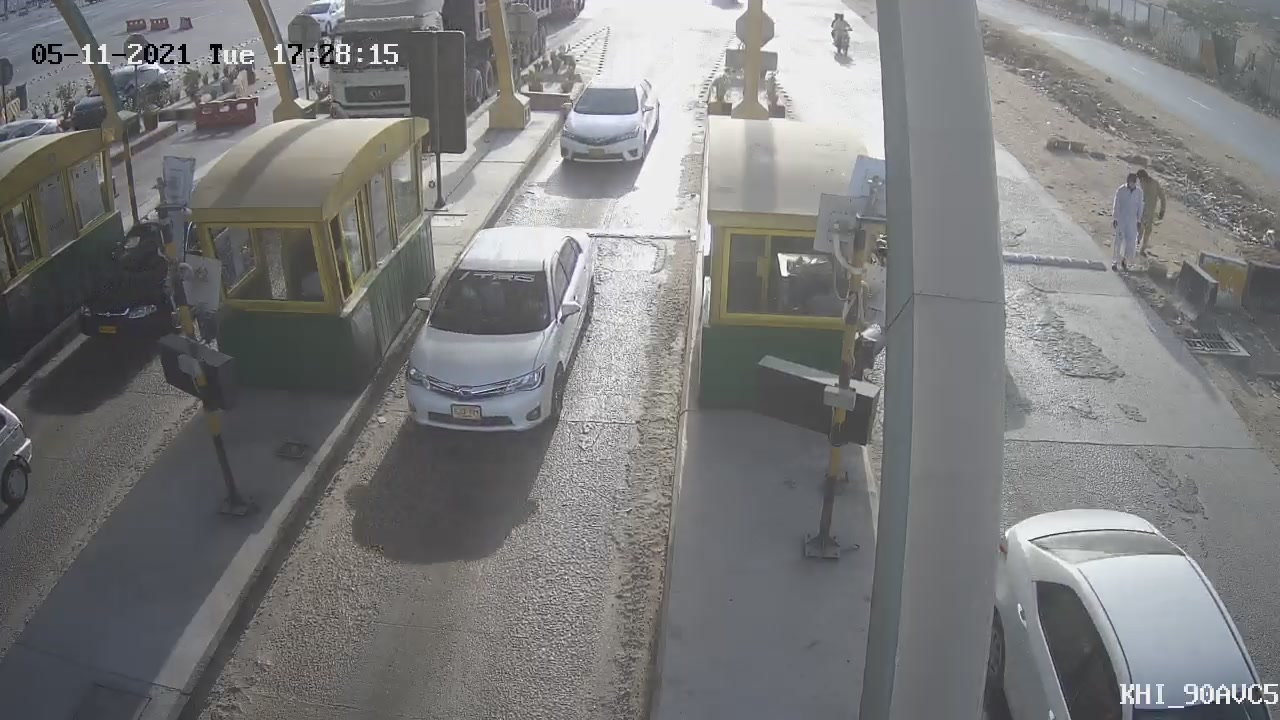F1: (385, 208, 617, 452), (542, 62, 674, 183)
